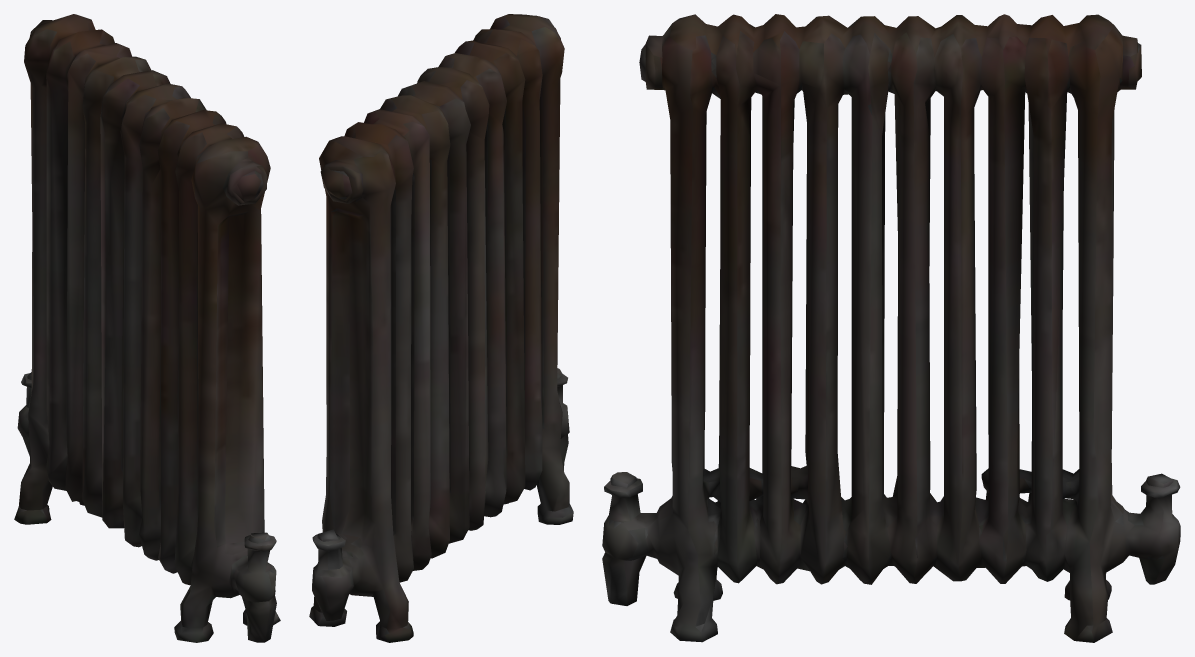
The model's file is plain-iron-radiator-v002.glb.
3 renders of one model, left to right at view 1: azimuth 30°, elevation 25°; view 2: azimuth 150°, elevation 25°; view 3: azimuth 270°, elevation 25°, orthographic. The views are drawn at different scales.
Visible parts, largest first — view 1: plain-iron-radiator; view 2: plain-iron-radiator; view 3: plain-iron-radiator.
Part boxes in pixels (bbox=[...]): plain-iron-radiator: bbox=[14, 14, 280, 642]; plain-iron-radiator: bbox=[309, 14, 573, 642]; plain-iron-radiator: bbox=[602, 14, 1180, 642].
Bounding box in the file's own units: 0.1304 × 0.6186 × 0.5462.
Materials: 1 (1 with a texture image).
